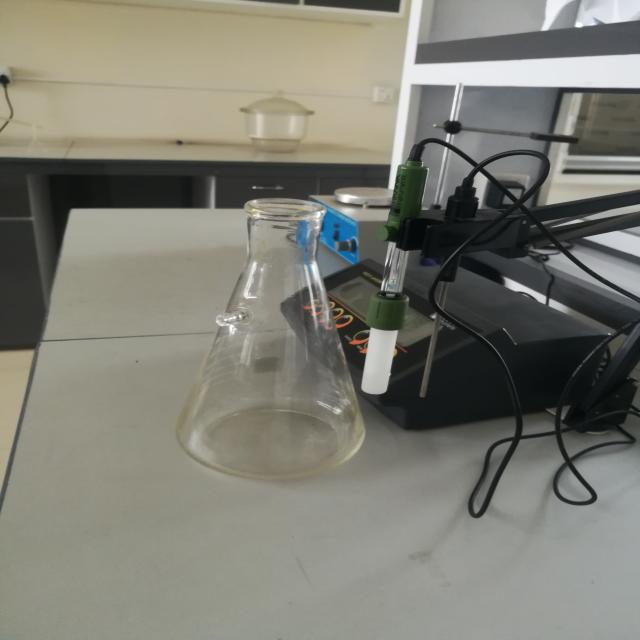Conical_Flask: (162, 183, 409, 506)
